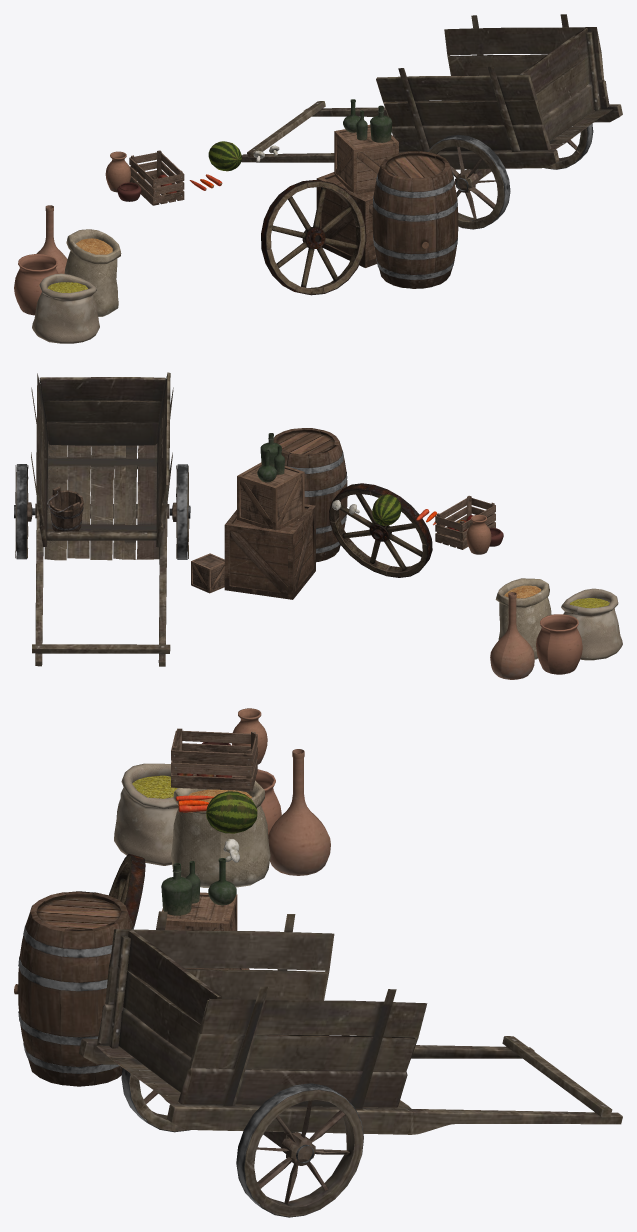
Rendered from castle-props-b.glb.
3 renders of one model, top to bottom at view 1: azimuth 30°, elevation 25°; view 2: azimuth 150°, elevation 25°; view 3: azimuth 270°, elevation 25°, orthographic. The views are drawn at different scales.
Visible parts, largest first — view 1: Handcart, Barrel1, Wheel, Sack1, Sack2, Box2, Box3, Wooden Crate, Pottery3, Melon, Pottery2, Pottery4 (+1 smaller); view 2: Handcart, Box3, Barrel1, Wheel, Box2, Sack1, Sack2, Pottery3, Pottery4, Wooden Crate, Bucket, Box1 (+2 smaller); view 3: Handcart, Barrel1, Sack2, Sack1, Wooden Crate, Pottery4, Box2, Melon, Wheel, Bottle1, Pottery2, Pottery3 (+1 smaller).
Part boxes in pixels (bbox=[...]): Handcart: bbox=[241, 14, 622, 229]; Barrel1: bbox=[372, 151, 458, 288]; Wheel: bbox=[261, 180, 366, 295]; Sack1: bbox=[32, 273, 99, 343]; Sack2: bbox=[64, 229, 121, 316]; Box2: bbox=[334, 124, 398, 194]; Box3: bbox=[316, 172, 377, 267]; Wooden Crate: bbox=[129, 150, 184, 205]; Pottery3: bbox=[14, 254, 58, 315]; Melon: bbox=[208, 141, 241, 171]; Pottery2: bbox=[105, 151, 130, 192]; Pottery4: bbox=[36, 205, 67, 273]; Handcart: bbox=[14, 372, 190, 666]; Box3: bbox=[224, 504, 315, 599]; Barrel1: bbox=[273, 428, 347, 562]; Wheel: bbox=[329, 483, 432, 577]; Box2: bbox=[237, 462, 304, 530]; Sack1: bbox=[561, 588, 622, 660]; Sack2: bbox=[495, 578, 551, 659]; Pottery3: bbox=[536, 614, 582, 674]; Pottery4: bbox=[490, 592, 534, 679]; Wooden Crate: bbox=[435, 495, 495, 549]; Bucket: bbox=[47, 486, 83, 531]; Box1: bbox=[191, 553, 224, 593]; Handcart: bbox=[78, 911, 622, 1217]; Barrel1: bbox=[14, 891, 133, 1086]; Sack2: bbox=[171, 780, 270, 887]; Sack1: bbox=[114, 763, 178, 865]; Wooden Crate: bbox=[171, 728, 257, 791]; Pottery4: bbox=[268, 749, 330, 875]; Box2: bbox=[162, 892, 237, 969]; Melon: bbox=[206, 791, 257, 833]; Wheel: bbox=[108, 854, 145, 928]; Bottle1: bbox=[161, 863, 192, 915]; Pottery2: bbox=[232, 708, 267, 764]; Pottery3: bbox=[255, 769, 281, 834].
Size of the model in its own units: 12.89 by 3.4 by 8.13.
44 materials, 44 textured.
